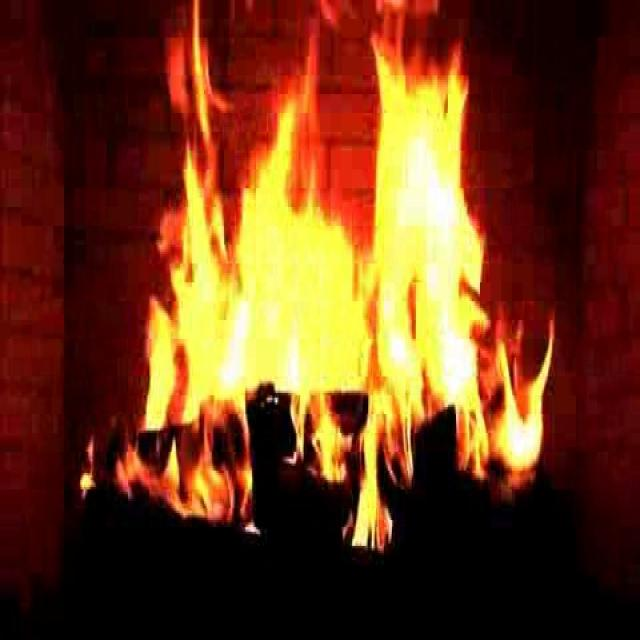fire: (148, 36, 513, 509)
